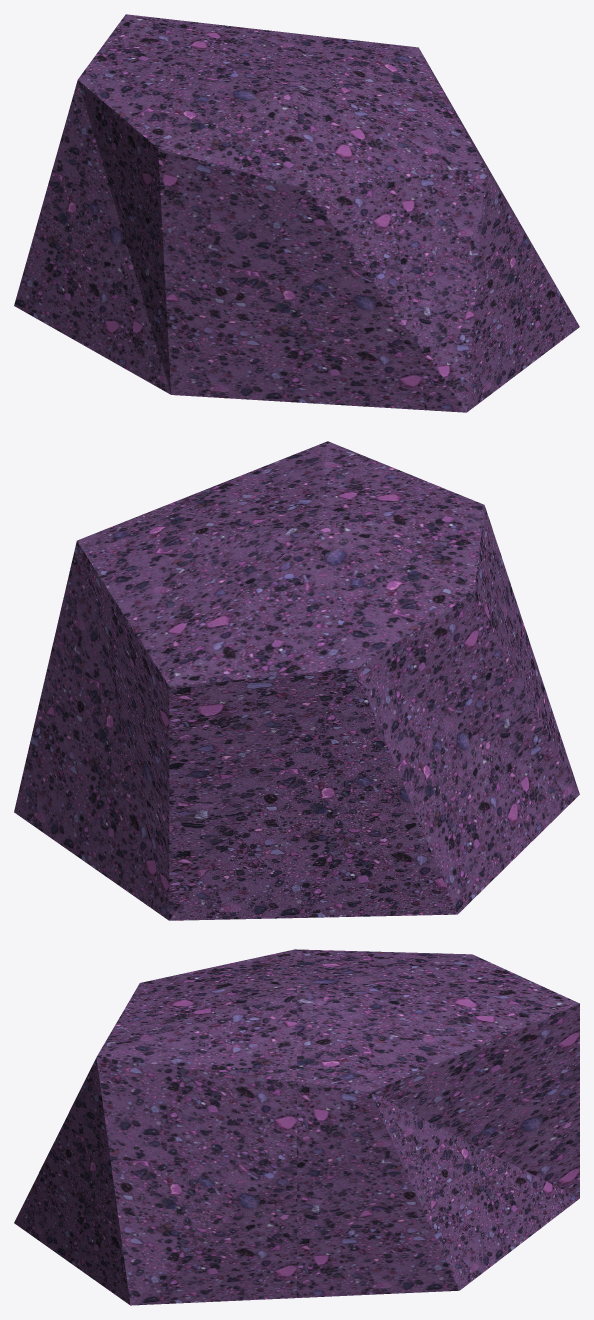
The model's file is Roca1.fbx.
3 renders of one model, top to bottom at view 1: azimuth 30°, elevation 25°; view 2: azimuth 150°, elevation 25°; view 3: azimuth 270°, elevation 25°, orthographic. The views are drawn at different scales.
Visible parts, largest first — view 1: Componen10; view 2: Componen10; view 3: Componen10.
Part boxes in pixels (x1,y1,x2,y2): Componen10: [14, 14, 579, 412]; Componen10: [14, 441, 579, 920]; Componen10: [14, 949, 579, 1305].
Size of the model in its own units: 4.79 by 3.16 by 5.96.
Materials: 1 (1 with a texture image).
